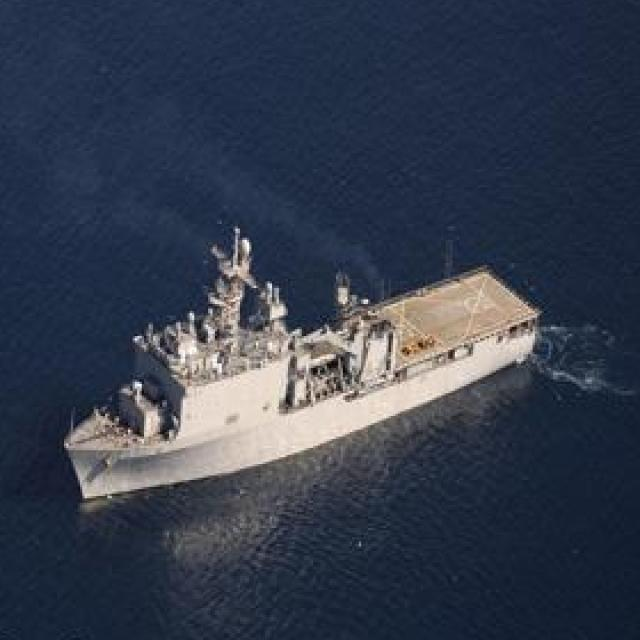navalvessels: (38, 214, 542, 512)
